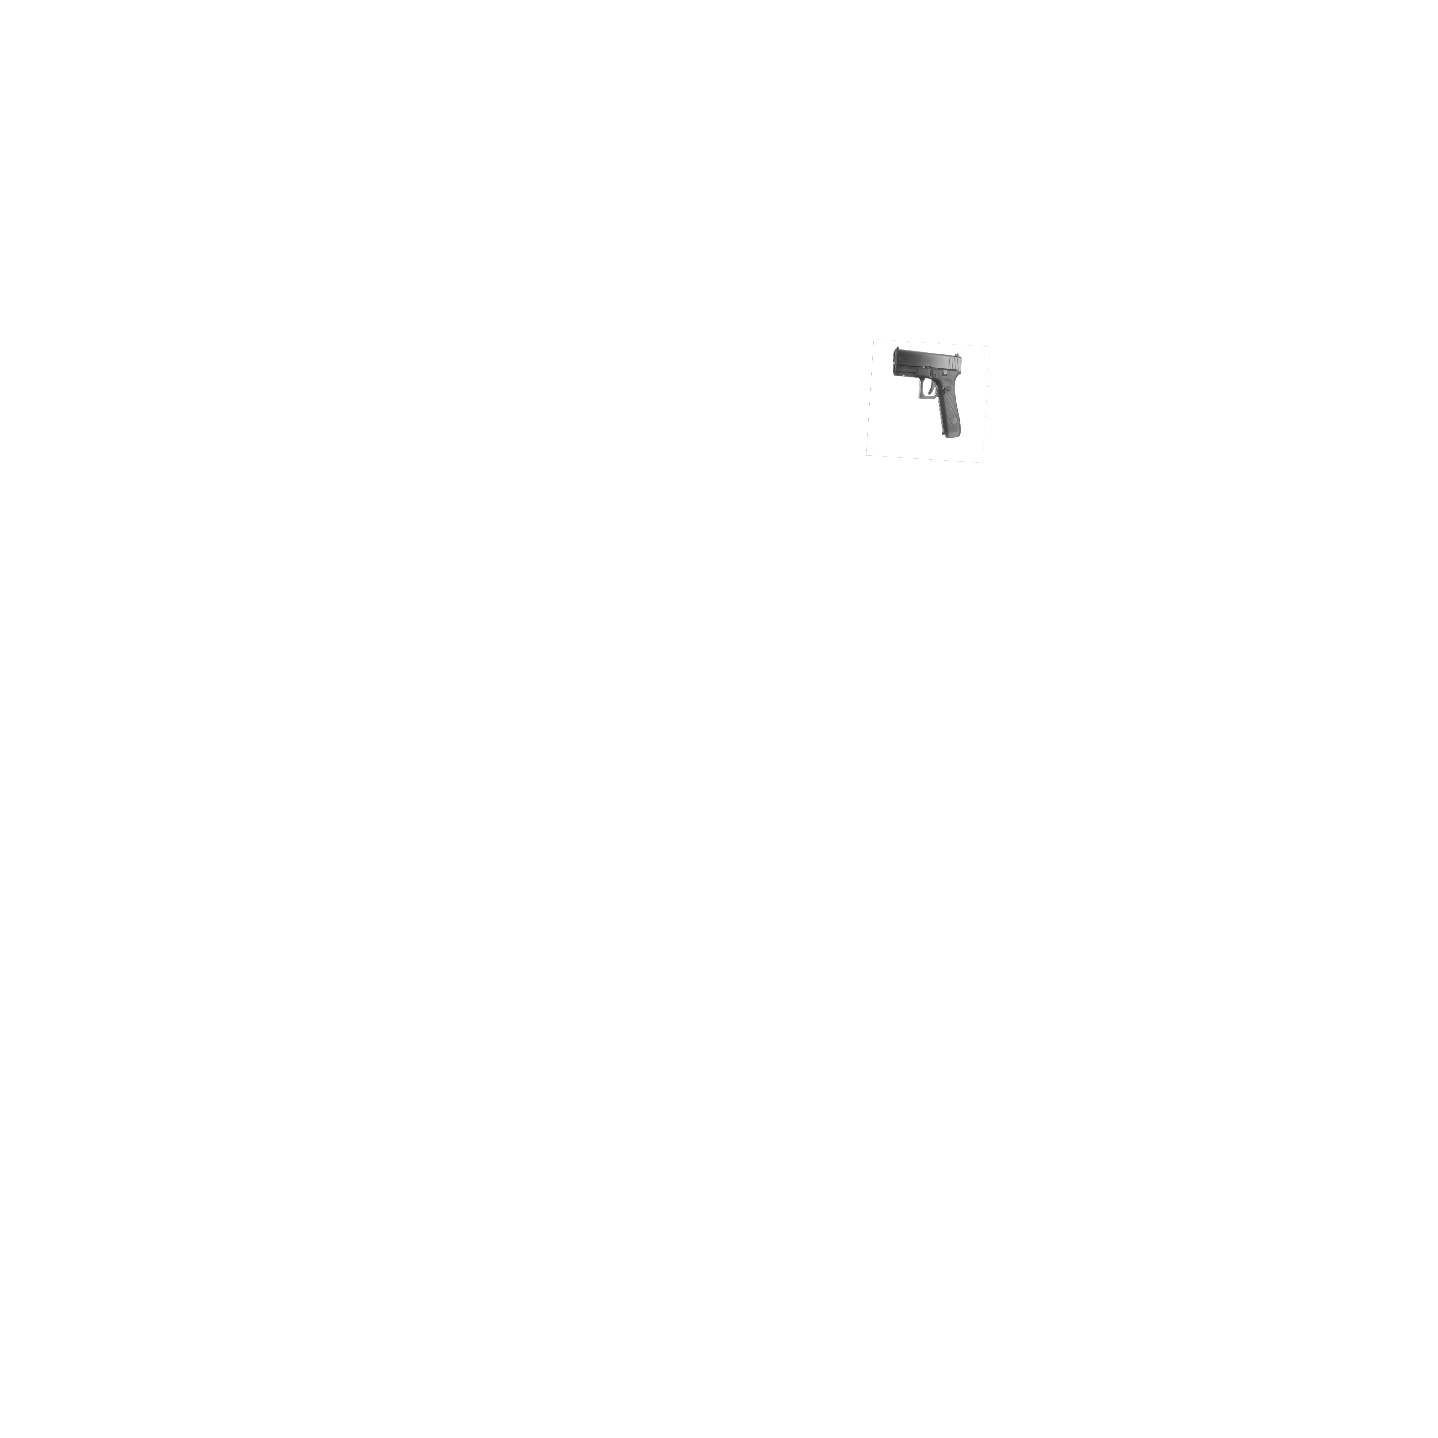gun: (889, 345, 964, 439)
